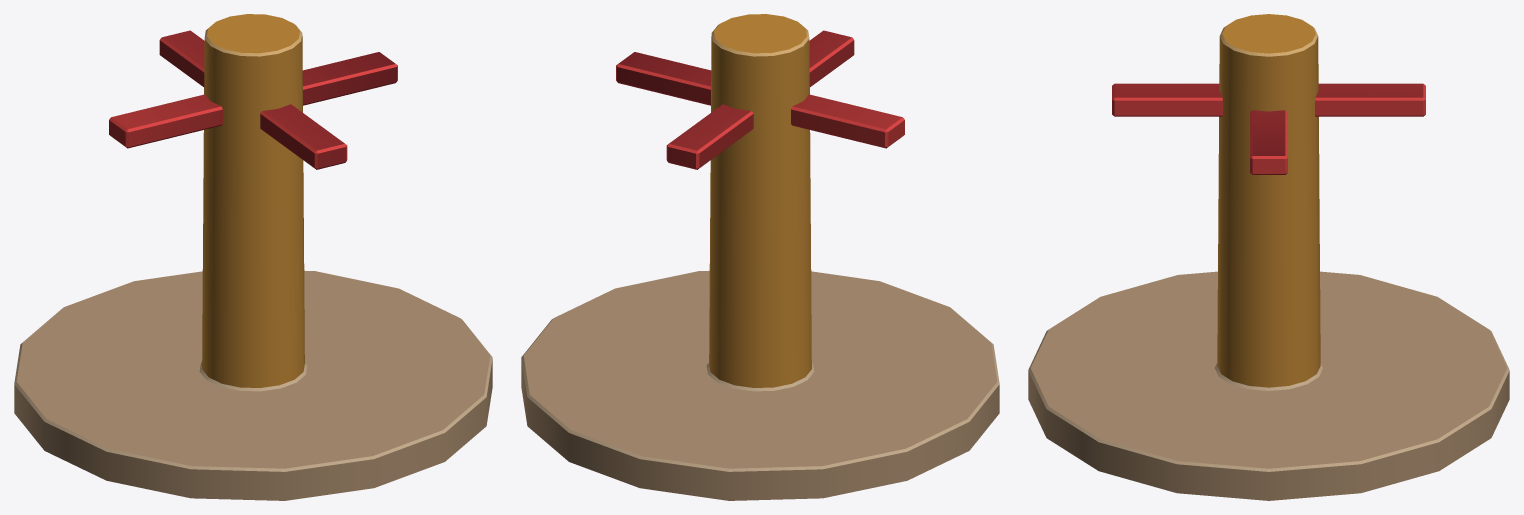
Rendered from Piling.fbx.
The picture shows the model from 3 angles, left to right: view 1: azimuth 30°, elevation 25°; view 2: azimuth 150°, elevation 25°; view 3: azimuth 270°, elevation 25°; orthographic projection.
Parts seen in each view (by area): view 1: Circle.001; view 2: Circle.001; view 3: Circle.001.
Boxes of the visible parts, left/top/right/bottom form: Circle.001: left=14, top=14, right=492, bottom=500; Circle.001: left=521, top=14, right=999, bottom=500; Circle.001: left=1028, top=14, right=1509, bottom=500.
Size of the model in its own units: 422 by 353 by 422.
